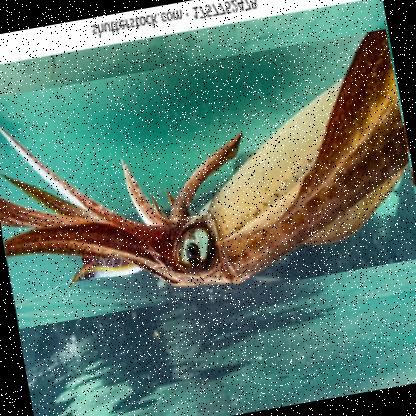colossal_squid: (0, 27, 415, 329)
